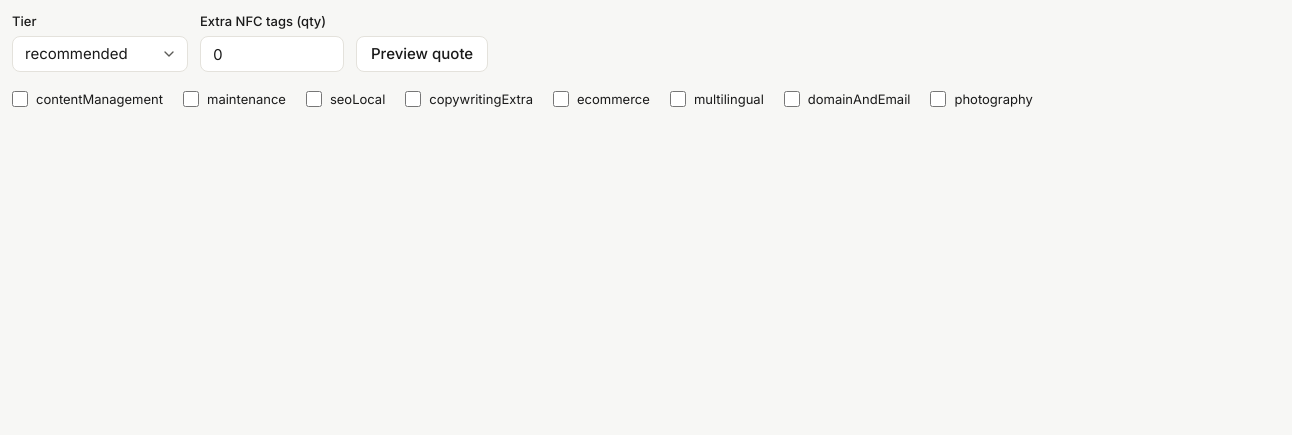
Test: QuotePreviewTool NFC quantity › sends nfcTagExtra repeated N times in addOns and renders the NFC line items
Replace the text in the number field labelled "Extra NFC tags (qty)" with "2": (272, 54) [200,36,344,72]
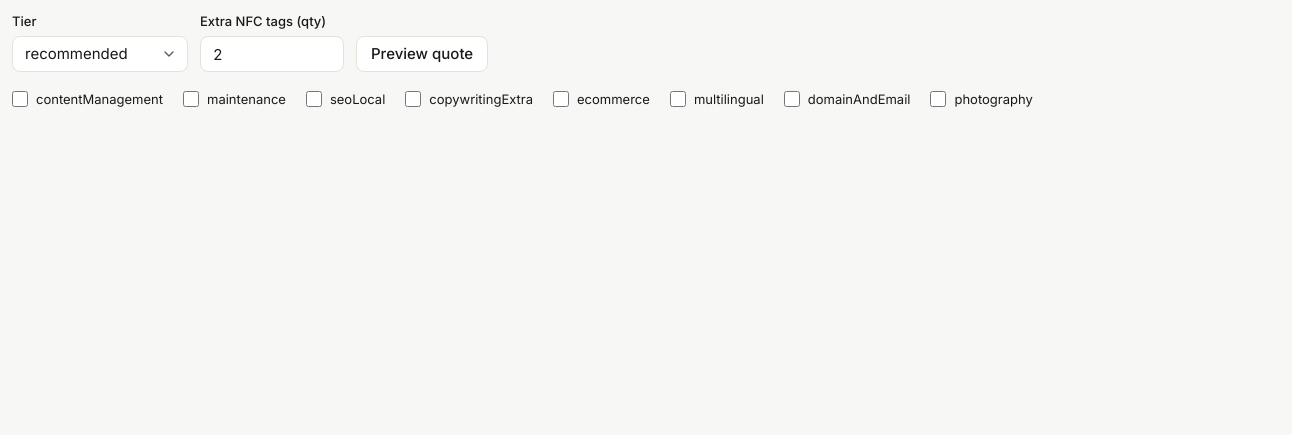
Click the checkbox labelled "photography": (938, 99) [930,91,946,107]
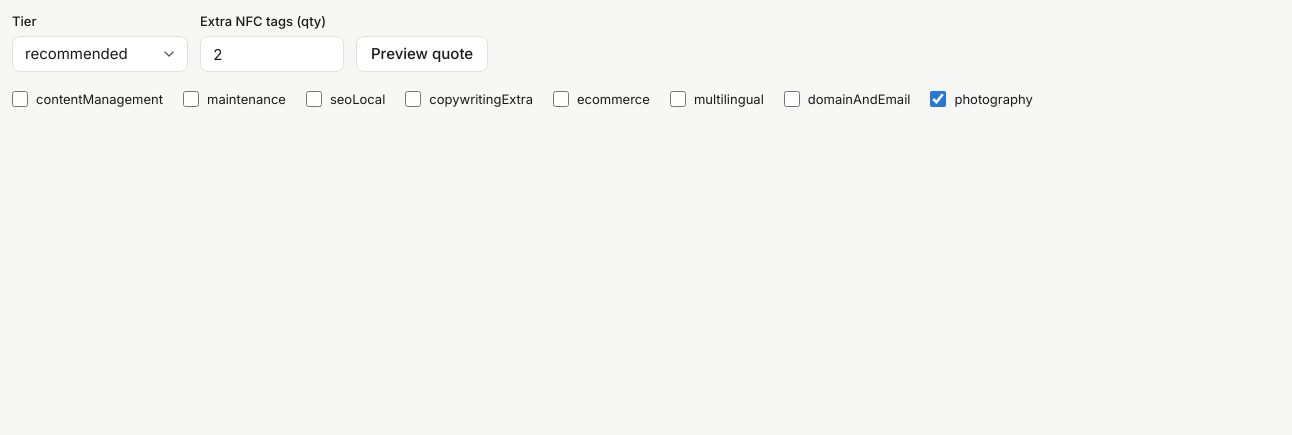
Click the button "Preview quote": (422, 54) [356,36,488,72]
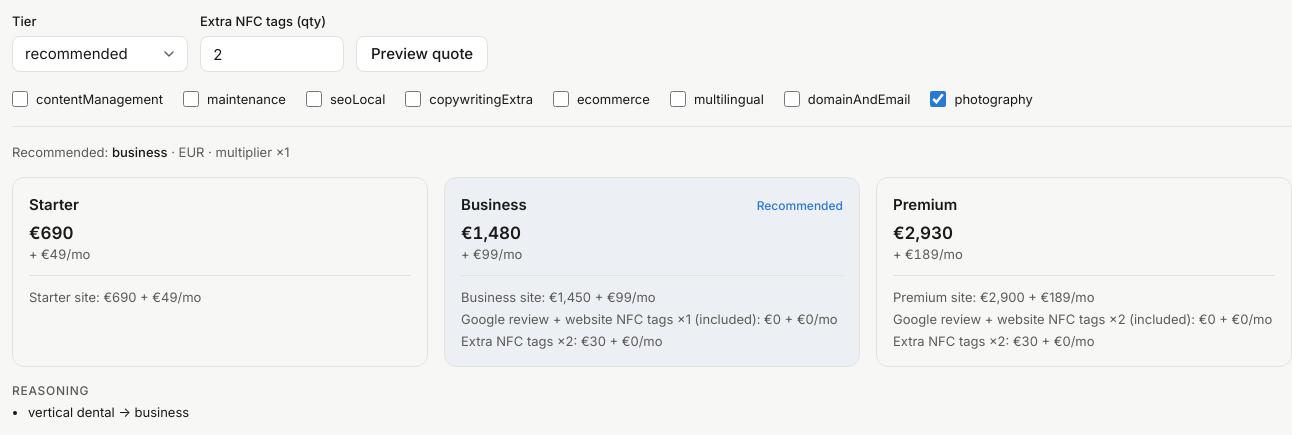
expect the list item "Google review + website NFC tags ×1 (included): €0 + €0/mo" is shown: met, box [461,310,843,328]
expect the number of list items "Extra NFC tags ×2: €30 + €0/mo" is 2: met, box [461,332,662,348]; [893,332,1094,348]
